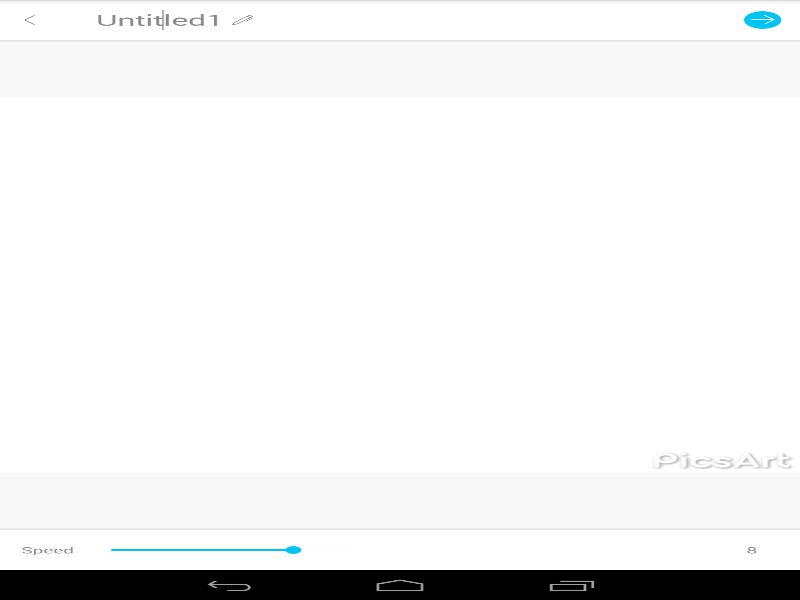Button: (5, 5, 69, 35), (730, 5, 794, 35), (229, 13, 256, 26)
Input: (96, 9, 224, 30)
